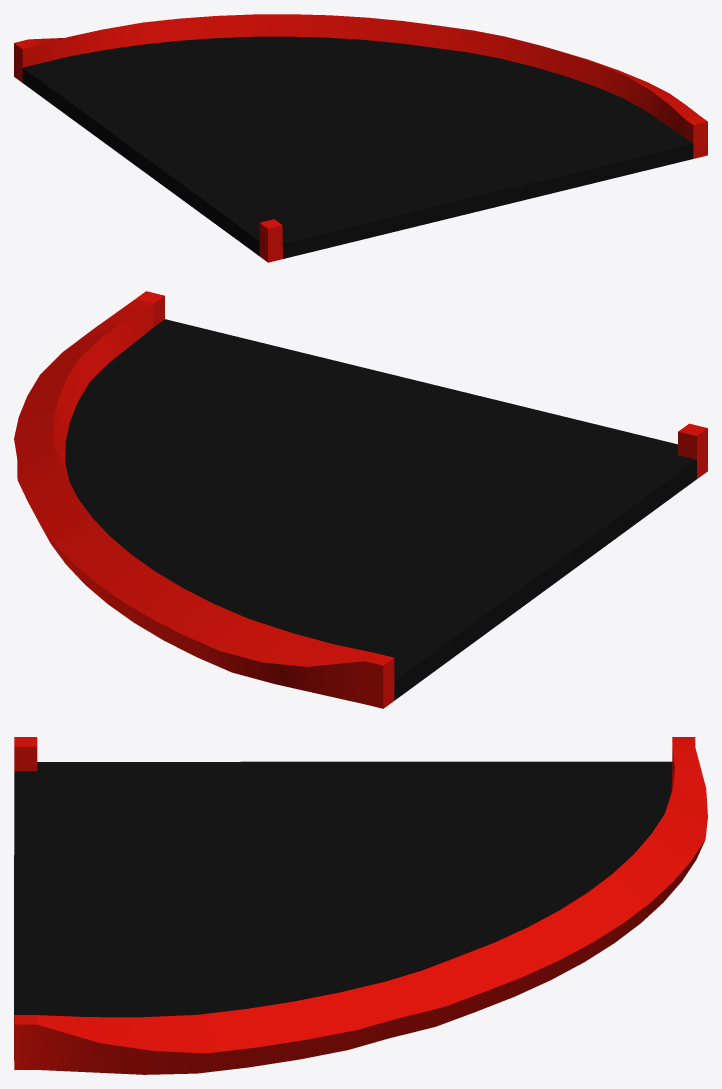
Rendered from Turn_03.fbx.
3 views of the same model, one above another, from view 1: azimuth 30°, elevation 25°; view 2: azimuth 150°, elevation 25°; view 3: azimuth 270°, elevation 25° (orthographic). The views are drawn at different scales.
Parts seen in each view (by area): view 1: Turn_03; view 2: Turn_03; view 3: Turn_03.
Part boxes in pixels (x1,y1,x2,y2): Turn_03: (14, 14, 707, 262); Turn_03: (14, 291, 707, 708); Turn_03: (14, 737, 707, 1074).
Size of the model in its own units: 60.82 by 4.33 by 60.19.
